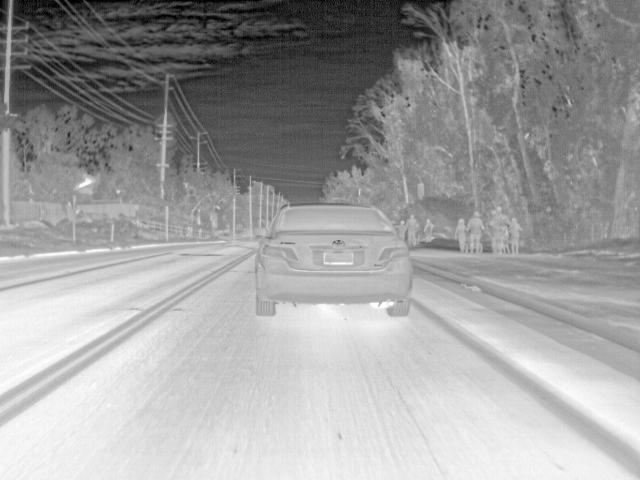car: (255, 200, 414, 318)
person: (491, 205, 507, 256), (467, 210, 482, 253), (453, 216, 467, 252), (508, 218, 521, 256), (408, 214, 419, 243), (422, 217, 433, 242), (399, 220, 406, 234)
